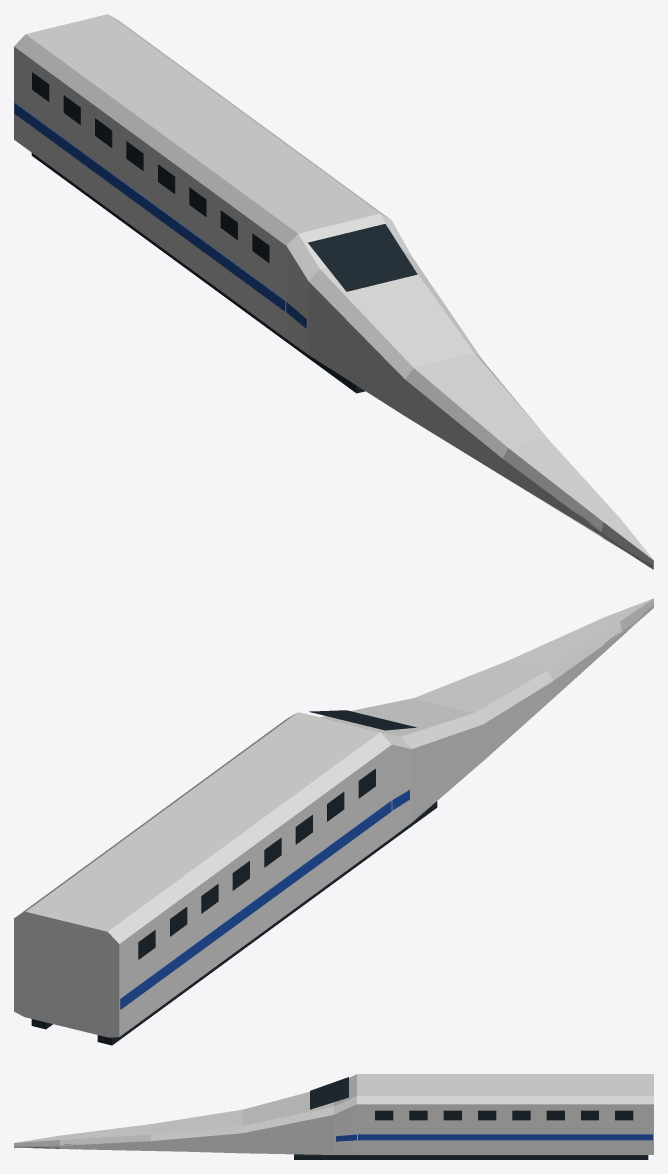
The model's file is maglev.glb.
The picture shows the model from 3 angles, top to bottom: view 1: azimuth 30°, elevation 25°; view 2: azimuth 150°, elevation 25°; view 3: azimuth 270°, elevation 25°; orthographic projection. The views are drawn at different scales.
Visible parts, largest first — view 1: maglev body; view 2: maglev body; view 3: maglev body.
Part boxes in pixels (x1,y1,x2,y2): maglev body: (14, 14, 653, 569); maglev body: (14, 598, 653, 1045); maglev body: (14, 1074, 653, 1159).
Size of the model in its own units: 2.94 by 3.1 by 28.
